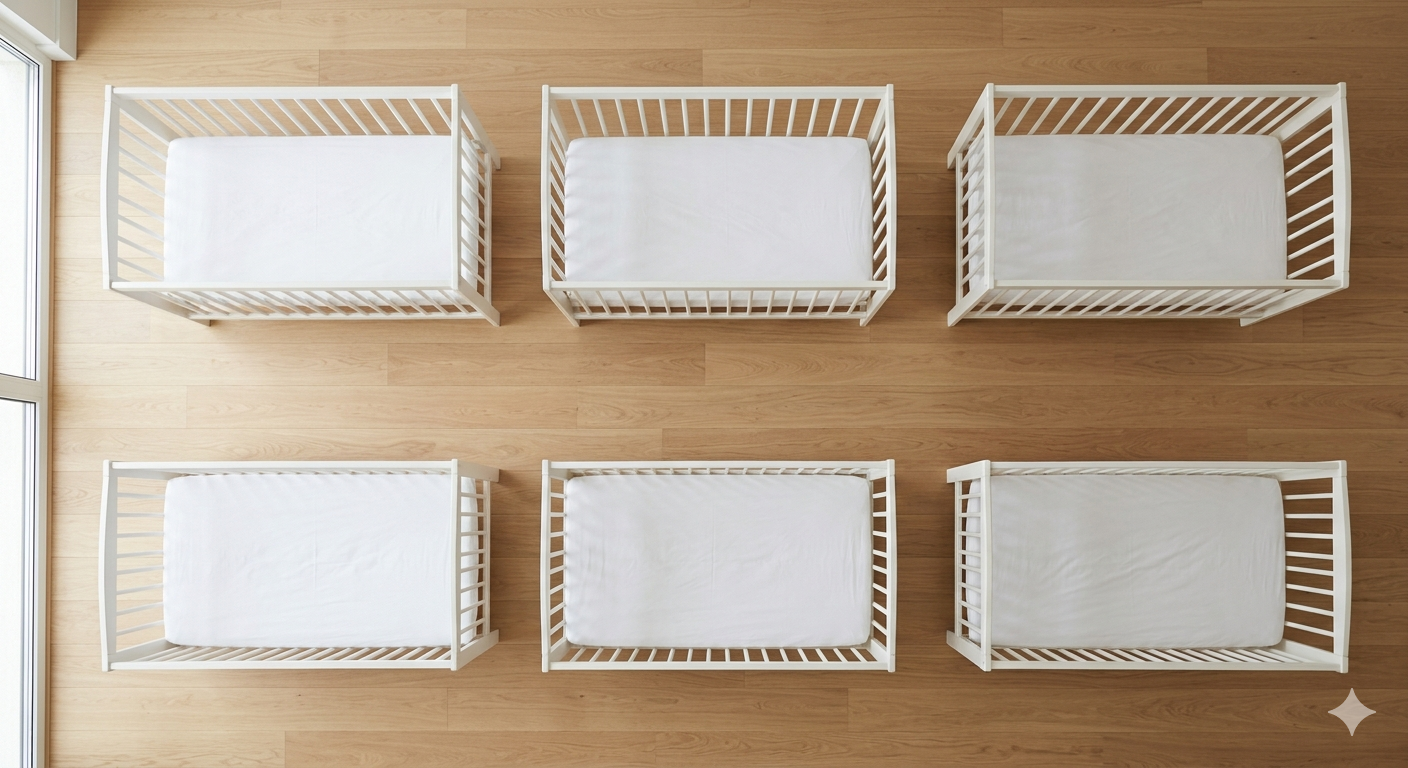crib: (948, 85, 1349, 324), (101, 85, 498, 323), (948, 461, 1350, 671), (541, 86, 895, 324), (100, 460, 497, 669), (540, 461, 897, 671)
